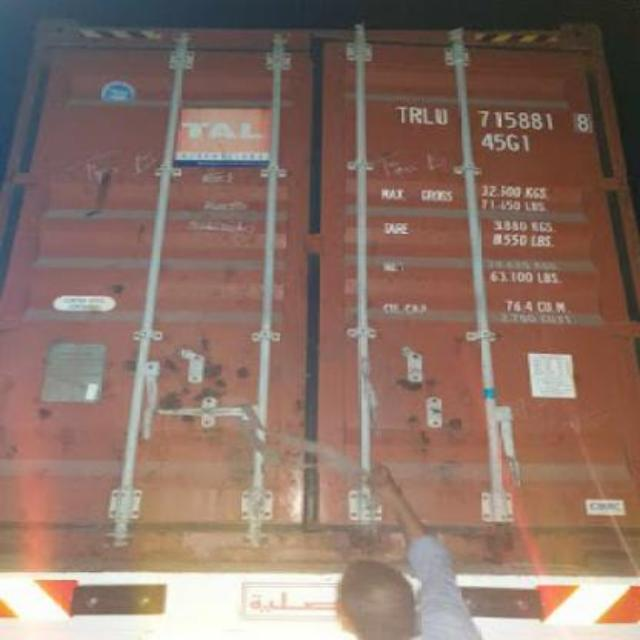1: (542, 111, 558, 132), (494, 110, 504, 130)
5: (502, 110, 516, 130)
7: (480, 109, 490, 127)
8: (574, 112, 592, 132), (532, 111, 546, 131), (516, 111, 530, 129)
L: (422, 106, 434, 126)
R: (408, 106, 420, 126)
T: (396, 104, 408, 125)
U: (436, 106, 448, 128)
